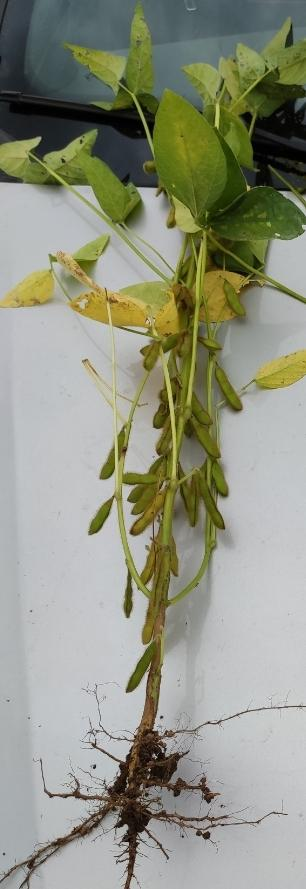soja: (120, 642, 167, 703), (199, 471, 232, 536), (213, 362, 249, 419), (96, 420, 125, 482), (189, 419, 230, 460), (133, 488, 168, 534), (83, 495, 117, 542), (141, 579, 163, 641), (152, 547, 175, 605), (223, 275, 252, 320), (114, 569, 137, 624), (155, 415, 185, 457), (125, 470, 157, 508), (129, 482, 158, 518), (141, 337, 164, 380), (121, 457, 148, 493), (138, 538, 158, 586), (175, 457, 195, 504), (162, 533, 183, 577), (185, 254, 205, 298), (191, 394, 215, 430), (187, 478, 202, 534), (172, 252, 196, 280), (199, 333, 229, 354), (175, 328, 190, 361), (160, 201, 177, 230), (152, 403, 168, 433), (153, 389, 177, 406), (182, 425, 198, 440), (145, 161, 157, 180)
